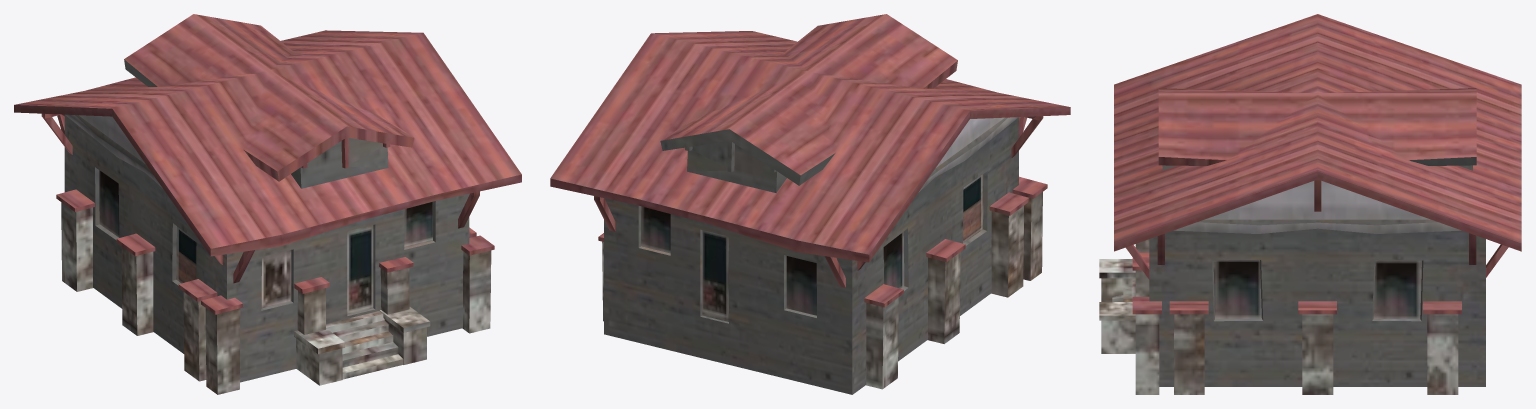
File: rural-house.lod1.glb
The picture shows the model from 3 angles, left to right: view 1: azimuth 30°, elevation 25°; view 2: azimuth 150°, elevation 25°; view 3: azimuth 270°, elevation 25°; orthographic projection. The views are drawn at different scales.
Visible parts, largest first — view 1: Rural_HouseOld_1_Material #39_0; view 2: Rural_HouseOld_1_Material #39_0; view 3: Rural_HouseOld_1_Material #39_0.
Part boxes in pixels (box(x1,y1,x2,y2)): Rural_HouseOld_1_Material #39_0: box(14, 14, 521, 394); Rural_HouseOld_1_Material #39_0: box(550, 14, 1070, 394); Rural_HouseOld_1_Material #39_0: box(1099, 14, 1521, 394).
Size of the model in its own units: 6.9 by 4.79 by 7.82.
1 material, 1 textured.
